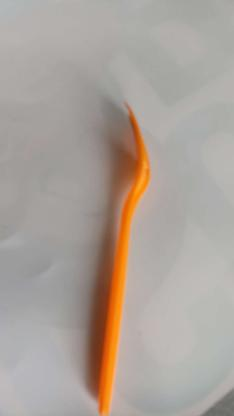Others: (91, 98, 173, 414)
